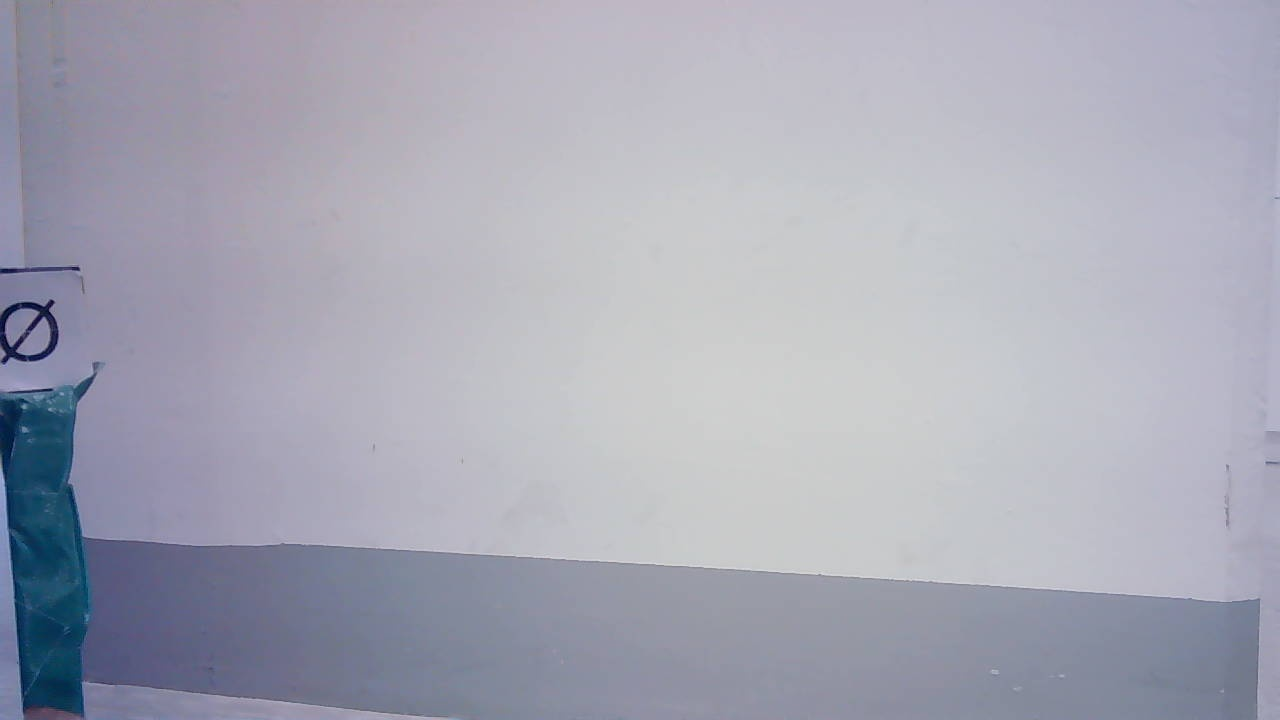box: (1, 270, 93, 389)
